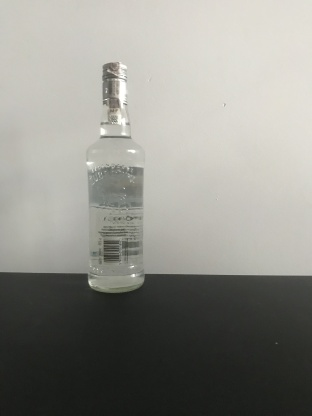nakretka: (100, 60, 129, 104)
